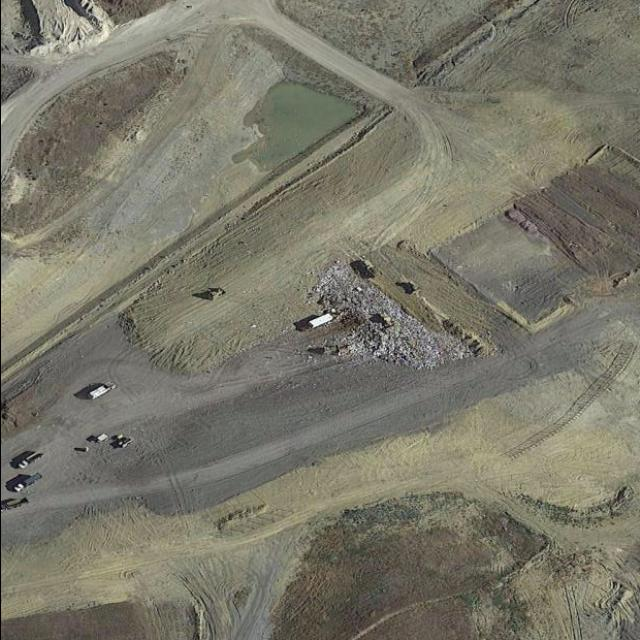dump_site: (290, 259, 475, 389)
